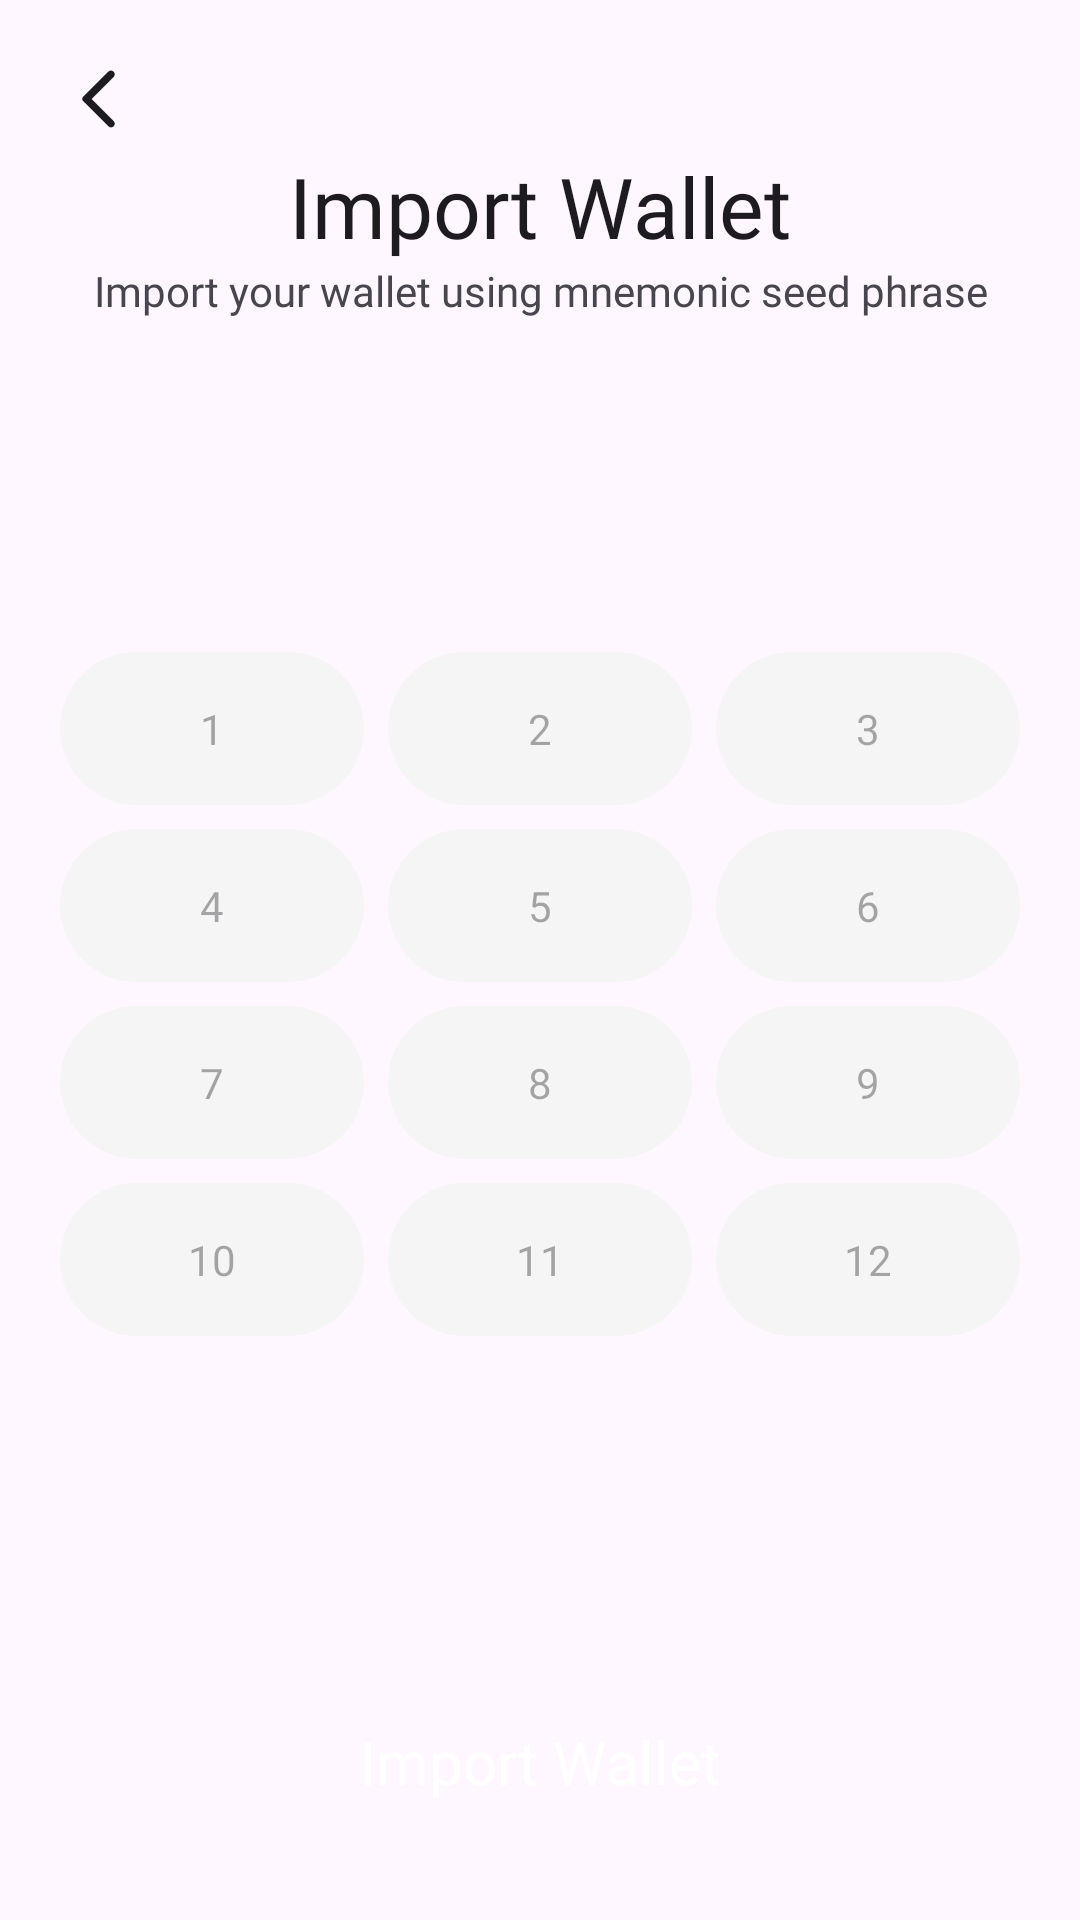

Point at icon controls on the screen. Image size 1080 x 1920, points as [x,y].
arrow back: [98,99]
